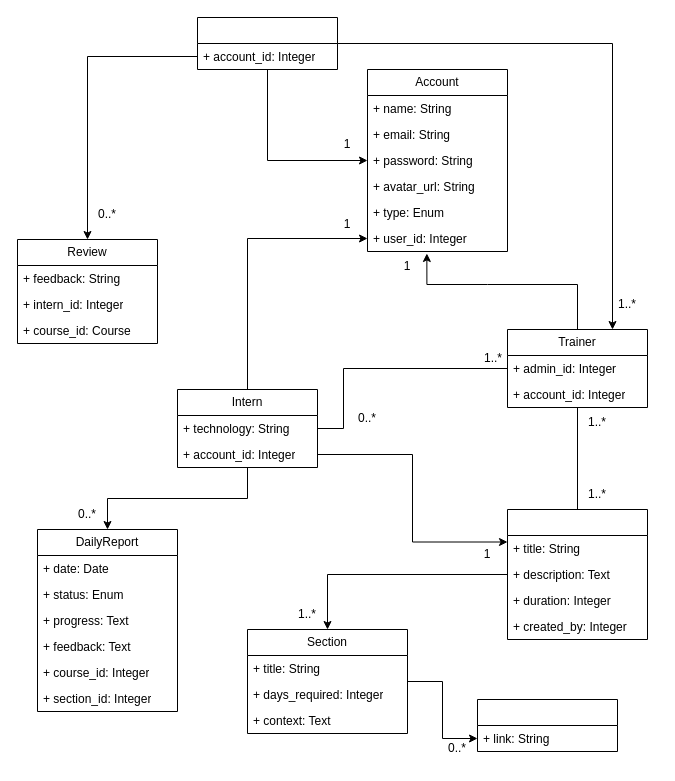
This 675x781 diagram has some shape labels left out. The shapes that lost their labels are listed below. From the top down, each one's box as (x1, y1, x2, y2) in pixels, then its label:
(196, 16, 338, 70): Admin
(506, 508, 648, 640): Course
(476, 698, 618, 752): Reference
